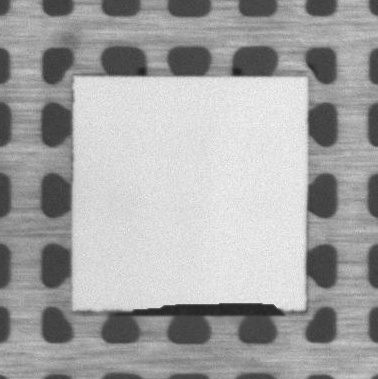DIE_BROKEN: (115, 302, 286, 315)
